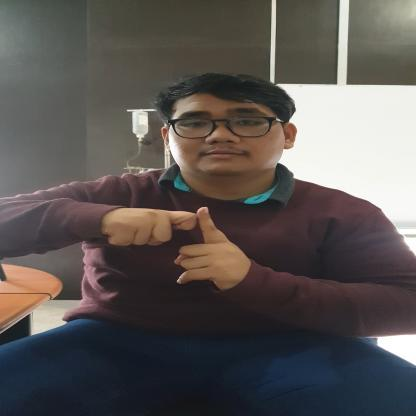K: (97, 204, 254, 294)
